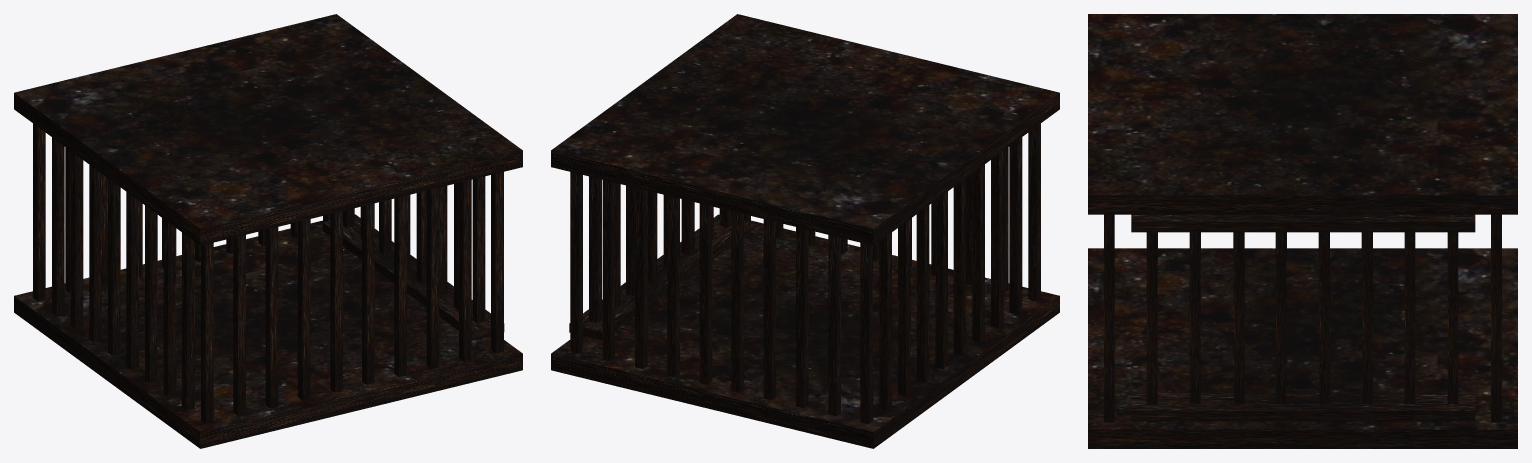
File: Horror_Final_Cage.fbx
3 renders of one model, left to right at view 1: azimuth 30°, elevation 25°; view 2: azimuth 150°, elevation 25°; view 3: azimuth 270°, elevation 25°, orthographic. The views are drawn at different scales.
Visible parts, largest first — view 1: polySurface195; view 2: polySurface195; view 3: polySurface195.
Part boxes in pixels (x1,y1,x2,y2): polySurface195: [14, 14, 522, 448]; polySurface195: [551, 14, 1059, 448]; polySurface195: [1088, 14, 1517, 448].
Bounding box in the file's own units: 200 × 130 × 200.
Materials: 1 (1 with a texture image).
